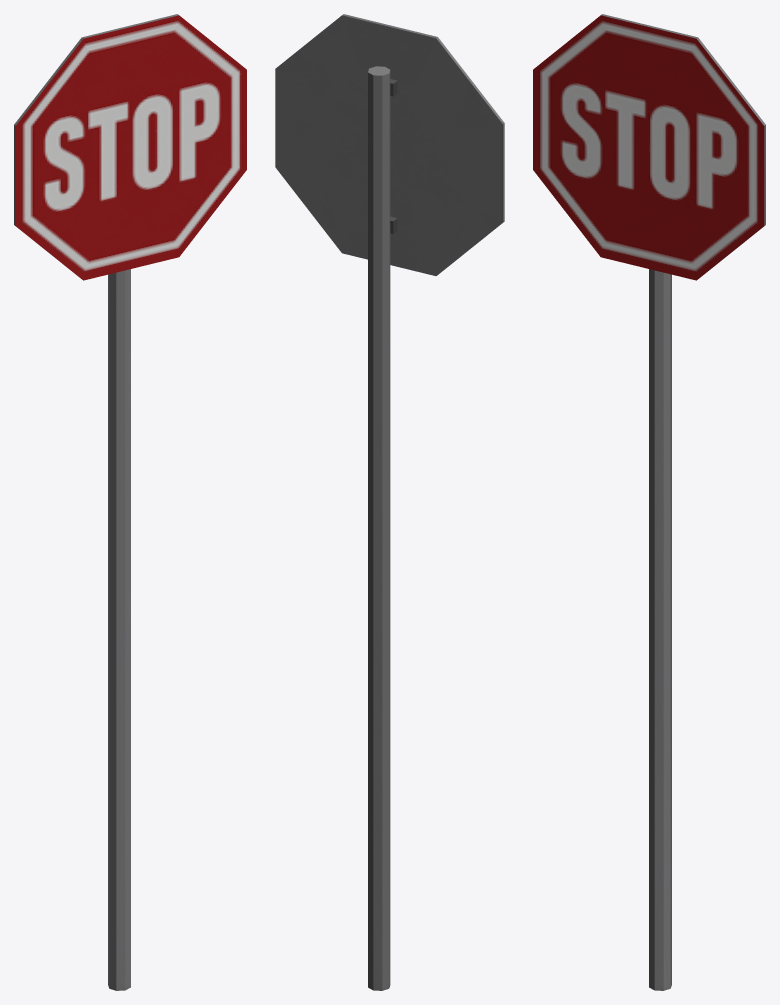
The model's file is stop_sign.glb.
3 views of the same model, side by side, from view 1: azimuth 30°, elevation 25°; view 2: azimuth 150°, elevation 25°; view 3: azimuth 330°, elevation 25° (orthographic).
Parts seen in each view (by area): view 1: core_stop_sign; view 2: core_stop_sign; view 3: core_stop_sign.
Boxes of the visible parts, bbox=[...] form: core_stop_sign: bbox=[14, 14, 246, 990]; core_stop_sign: bbox=[275, 14, 504, 990]; core_stop_sign: bbox=[533, 14, 765, 990].
Bounding box in the file's own units: 0.45 × 1.8 × 0.06.
Materials: 1 (1 with a texture image).
